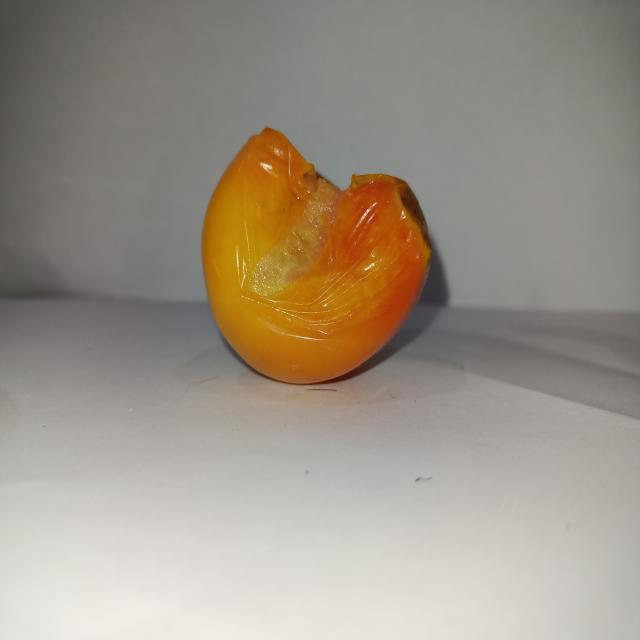Red: (200, 125, 433, 385)
